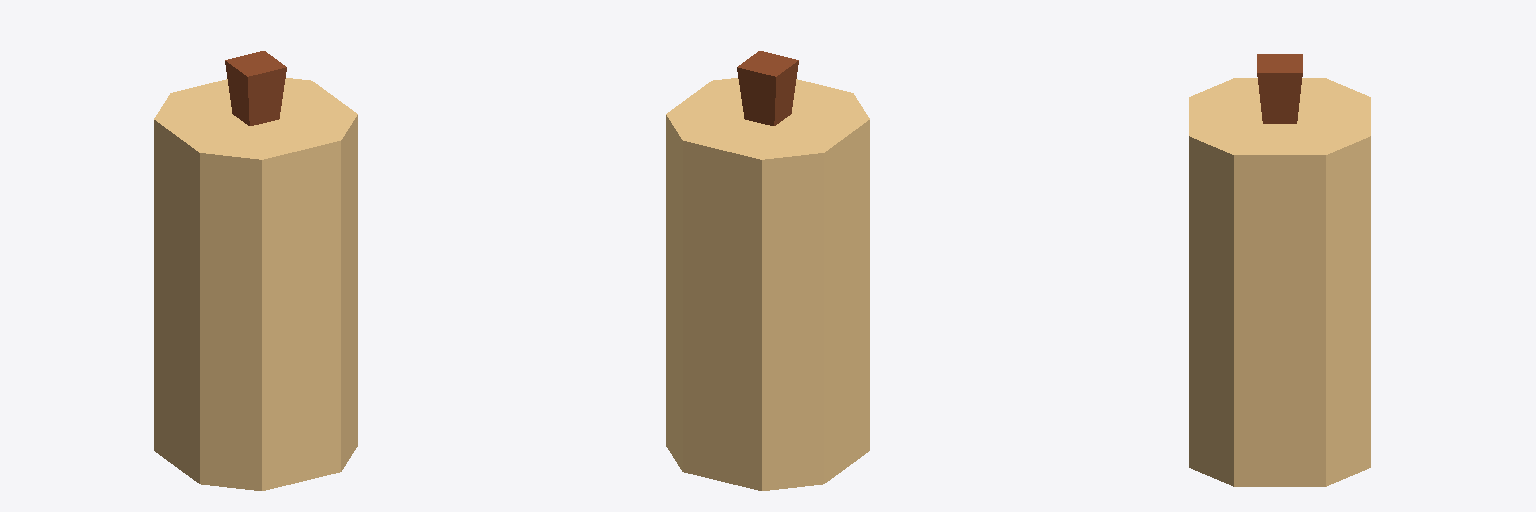
File: candle.obj
The picture shows the model from 3 angles: view 1: azimuth 30°, elevation 25°; view 2: azimuth 150°, elevation 25°; view 3: azimuth 270°, elevation 25°; orthographic projection.
Visible parts, largest first — view 1: candle; view 2: candle; view 3: candle.
Part boxes in pixels (bbox=[...]): candle: bbox=[154, 51, 357, 490]; candle: bbox=[666, 51, 869, 490]; candle: bbox=[1189, 54, 1370, 486].
Size of the model in its own units: 0.05 by 0.116 by 0.05.